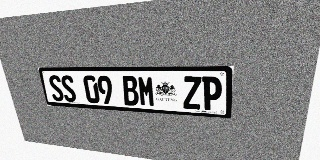0: (82, 75, 100, 104)
9: (96, 75, 114, 104)
B: (121, 76, 139, 106)
M: (137, 76, 156, 107)
P: (202, 76, 222, 111)
S: (48, 75, 65, 102), (60, 75, 77, 102)
Z: (183, 76, 201, 110)
